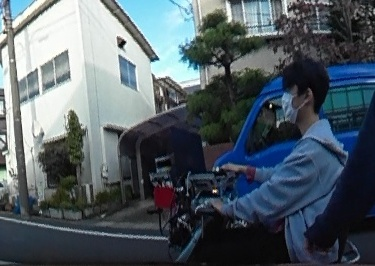person: (221, 56, 345, 266)
